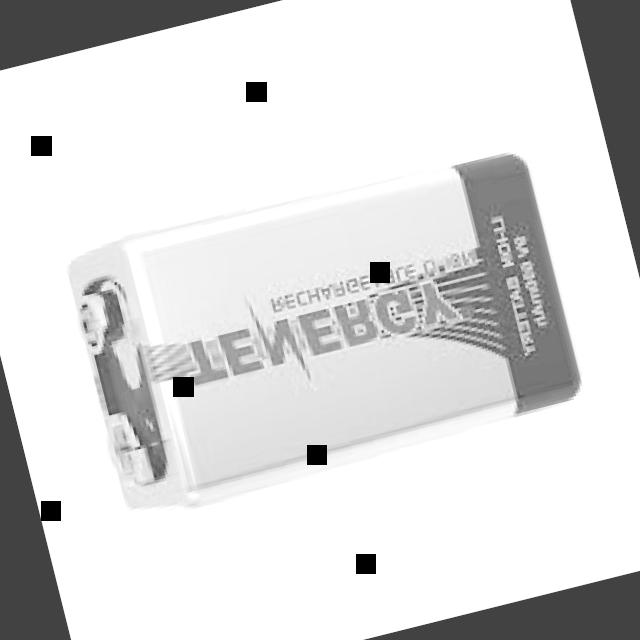battery: (65, 152, 579, 515)
